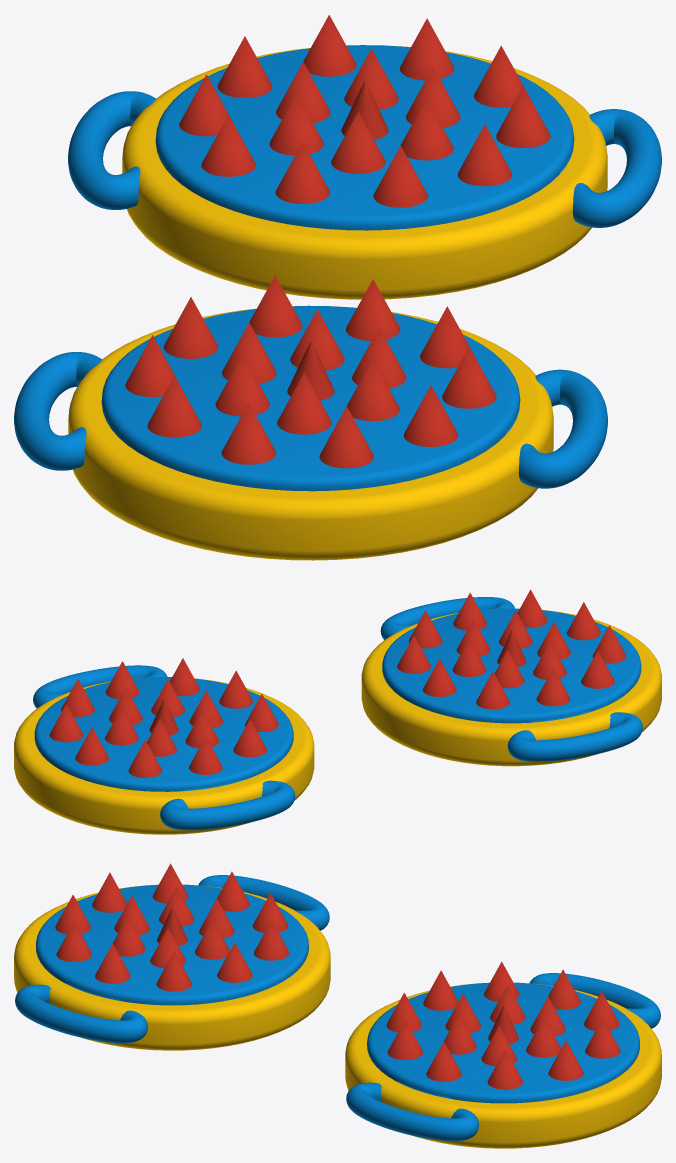
Rendered from spiked-heel-discs.glb.
3 views of the same model, one above another, from view 1: azimuth 30°, elevation 25°; view 2: azimuth 150°, elevation 25°; view 3: azimuth 270°, elevation 25° (orthographic). The views are drawn at different scales.
Parts seen in each view (by area): view 1: spiked-heel-discs-part-002, spiked-heel-discs-part-021, spiked-heel-discs-part-001, spiked-heel-discs-part-020, spiked-heel-discs-part-012, spiked-heel-discs-part-014, spiked-heel-discs-part-006, spiked-heel-discs-part-034, spiked-heel-discs-part-013, spiked-heel-discs-part-010, spiked-heel-discs-part-025, spiked-heel-discs-part-031 (+26 smaller); view 2: spiked-heel-discs-part-002, spiked-heel-discs-part-021, spiked-heel-discs-part-001, spiked-heel-discs-part-020, spiked-heel-discs-part-037, spiked-heel-discs-part-011, spiked-heel-discs-part-018, spiked-heel-discs-part-010, spiked-heel-discs-part-028, spiked-heel-discs-part-031, spiked-heel-discs-part-012, spiked-heel-discs-part-014 (+26 smaller); view 3: spiked-heel-discs-part-002, spiked-heel-discs-part-021, spiked-heel-discs-part-020, spiked-heel-discs-part-001, spiked-heel-discs-part-028, spiked-heel-discs-part-009, spiked-heel-discs-part-016, spiked-heel-discs-part-017, spiked-heel-discs-part-035, spiked-heel-discs-part-036, spiked-heel-discs-part-037, spiked-heel-discs-part-018 (+26 smaller).
Boxes of the visible parts, box(x1,y1,x2,y2) form: spiked-heel-discs-part-002: box(14, 305, 607, 491); spiked-heel-discs-part-021: box(68, 45, 661, 230); spiked-heel-discs-part-001: box(68, 305, 553, 560); spiked-heel-discs-part-020: box(122, 45, 607, 299); spiked-heel-discs-part-012: box(147, 375, 201, 437); spiked-heel-discs-part-014: box(319, 406, 373, 468); spiked-heel-discs-part-006: box(277, 372, 331, 434); spiked-heel-discs-part-034: box(457, 124, 512, 186); spiked-heel-discs-part-013: box(221, 403, 275, 464); spiked-heel-discs-part-010: box(163, 297, 218, 358); spiked-heel-discs-part-025: box(331, 112, 385, 173); spiked-heel-discs-part-031: box(201, 115, 255, 176); spiked-heel-discs-part-002: box(380, 597, 642, 761); spiked-heel-discs-part-021: box(33, 665, 295, 830); spiked-heel-discs-part-001: box(361, 608, 661, 766); spiked-heel-discs-part-020: box(14, 677, 314, 834); spiked-heel-discs-part-037: box(49, 704, 83, 742); spiked-heel-discs-part-011: box(536, 668, 570, 706); spiked-heel-discs-part-018: box(397, 635, 430, 673); spiked-heel-discs-part-010: box(476, 671, 509, 709); spiked-heel-discs-part-028: box(75, 727, 108, 765); spiked-heel-discs-part-031: box(233, 719, 266, 757); spiked-heel-discs-part-012: box(581, 651, 614, 688); spiked-heel-discs-part-014: box(567, 602, 600, 640); spiked-heel-discs-part-002: box(15, 875, 329, 1043); spiked-heel-discs-part-021: box(346, 973, 660, 1141); spiked-heel-discs-part-020: box(345, 982, 661, 1148); spiked-heel-discs-part-001: box(14, 884, 330, 1050); spiked-heel-discs-part-028: box(585, 1018, 620, 1058); spiked-heel-discs-part-009: box(254, 920, 289, 960); spiked-heel-discs-part-016: box(95, 943, 130, 983); spiked-heel-discs-part-017: box(156, 951, 191, 991); spiked-heel-discs-part-035: box(426, 1041, 461, 1081); spiked-heel-discs-part-036: box(487, 1049, 522, 1089); spiked-heel-discs-part-037: box(548, 1040, 583, 1080); spiked-heel-discs-part-018: box(217, 942, 252, 982).
Size of the model in its own units: 2.77 by 0.4098 by 3.
